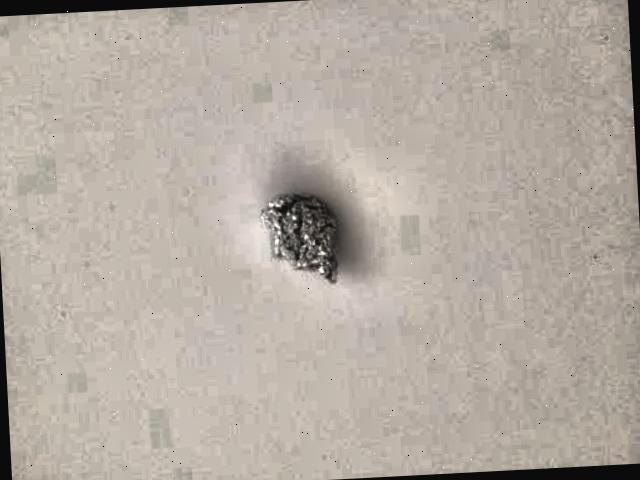Almennt: (249, 175, 387, 316)
